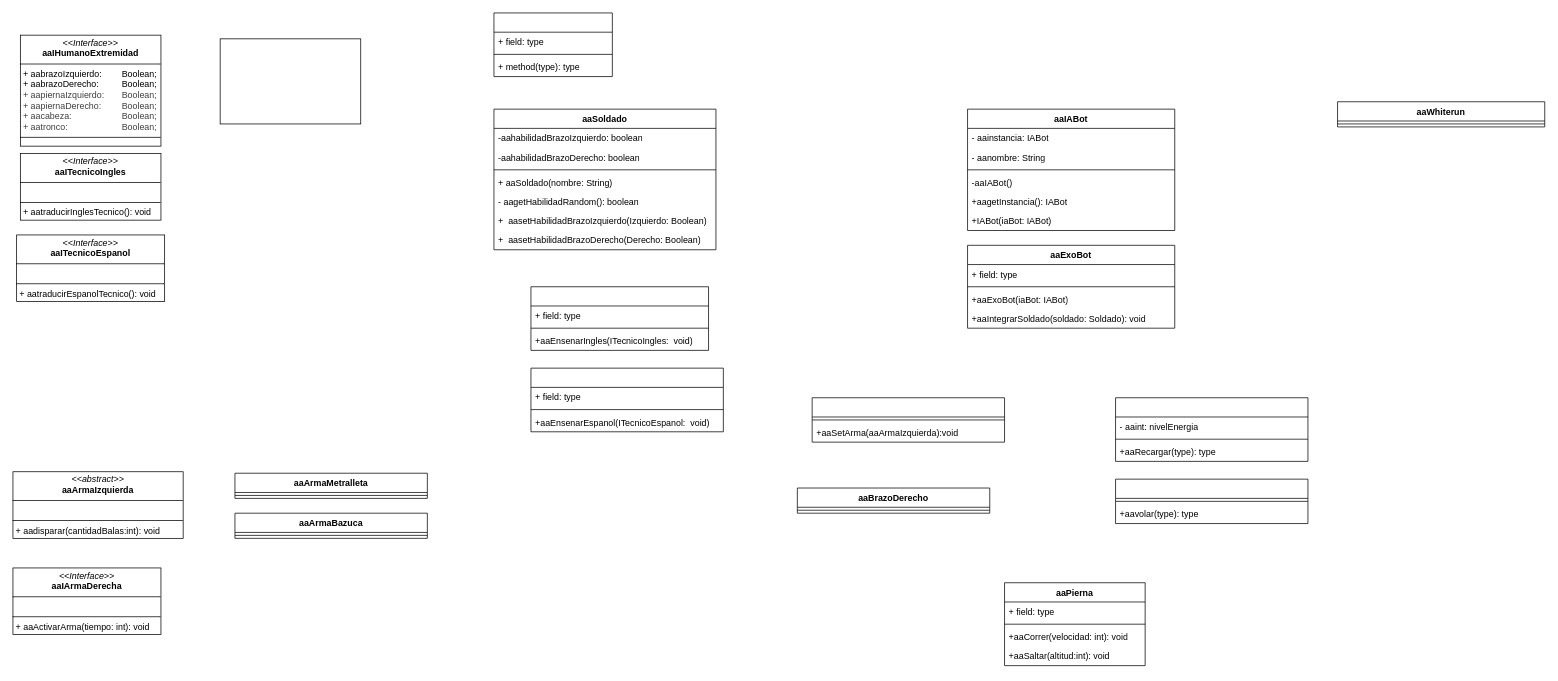
Image size: 1558x681. Some labels were removed from this diagram. The shapes that lost their labels are listed below. From the top down, each one's box as (x1, y1, x2, y2) in pixels, then its label:
(493, 12, 612, 77): aaMecatronico
(219, 38, 361, 124): <<abstract>> aaHumano - aanombre: String + aaHumano(nombre: String)
(530, 286, 709, 350): aaExpertoIngles
(530, 367, 723, 432): aaExpertoEspanol
(811, 397, 1005, 442): aaBrazoIzquierdo
(1115, 397, 1308, 461): aaFuentePoder
(1115, 478, 1308, 524): aaTurboReactor
